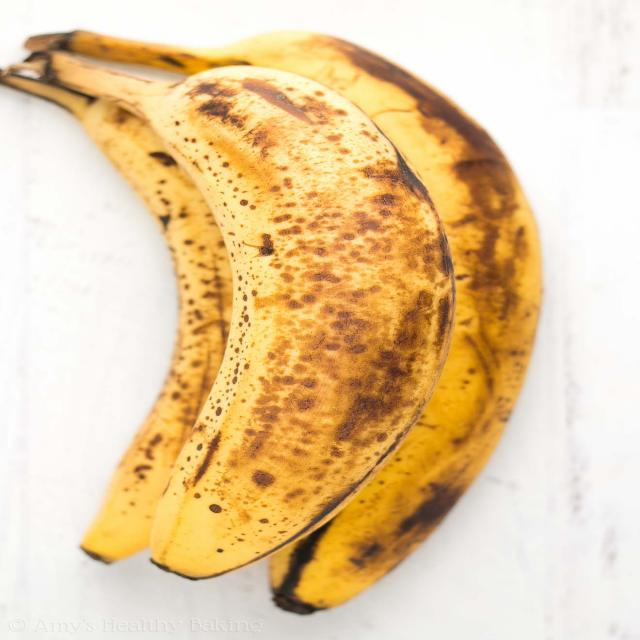banana: (3, 27, 548, 617)
